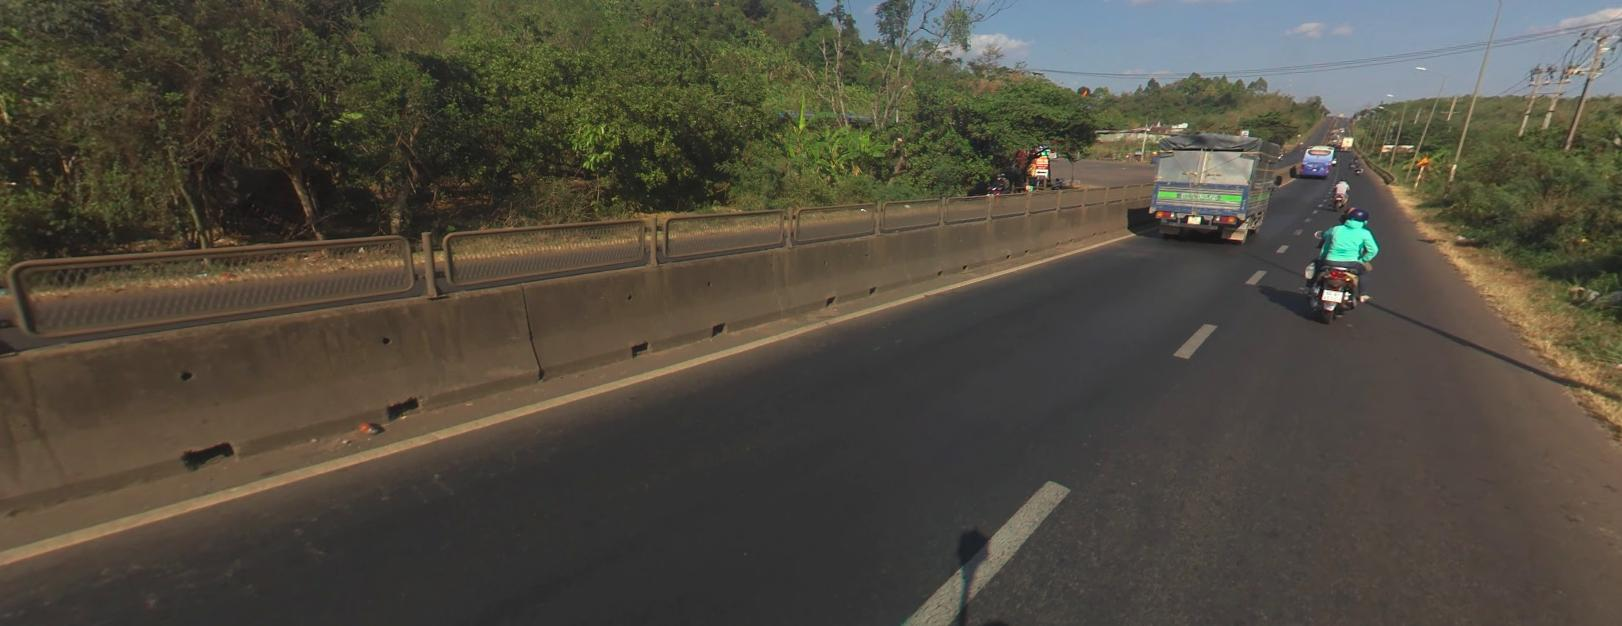Nguy hiem: (1415, 154, 1430, 165)
